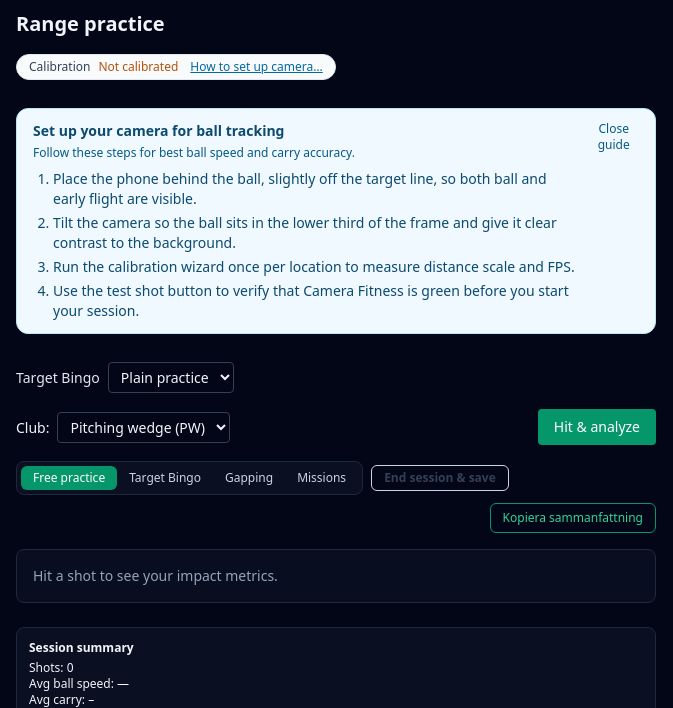
it: RangePracticePage missions mode › gates missions for free users
This screenshot has width=673, height=708.
Click the button with test id "mission-mode-button" at (322,478), box [285,466,358,490]
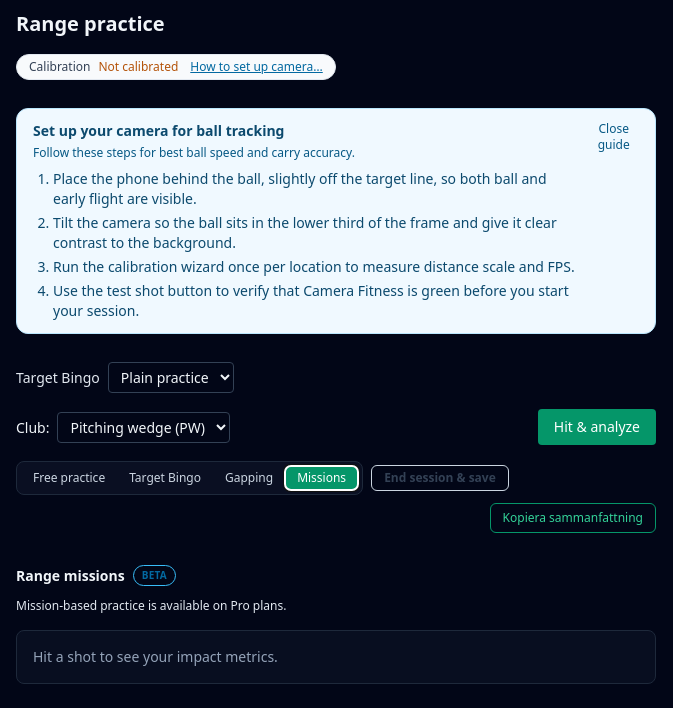
Expected: the text "Mission-based practice is available on Pro plans." is shown, [16,597,286,614]
